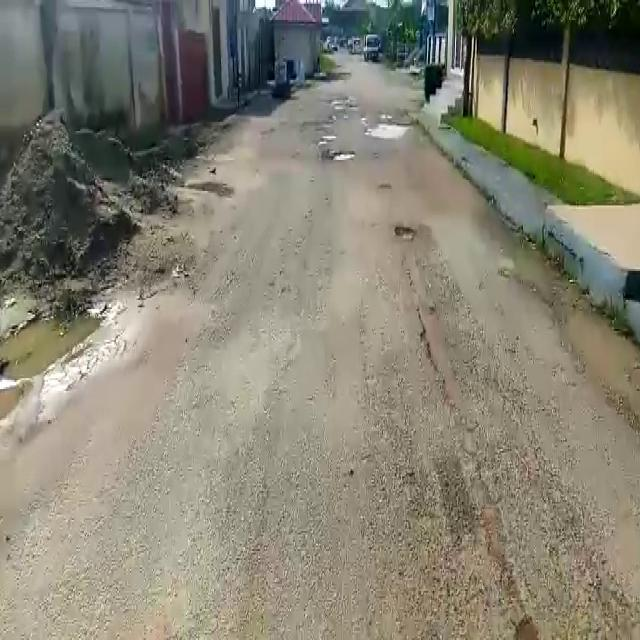pothole: (365, 121, 411, 138), (323, 148, 359, 162), (395, 225, 417, 241)
